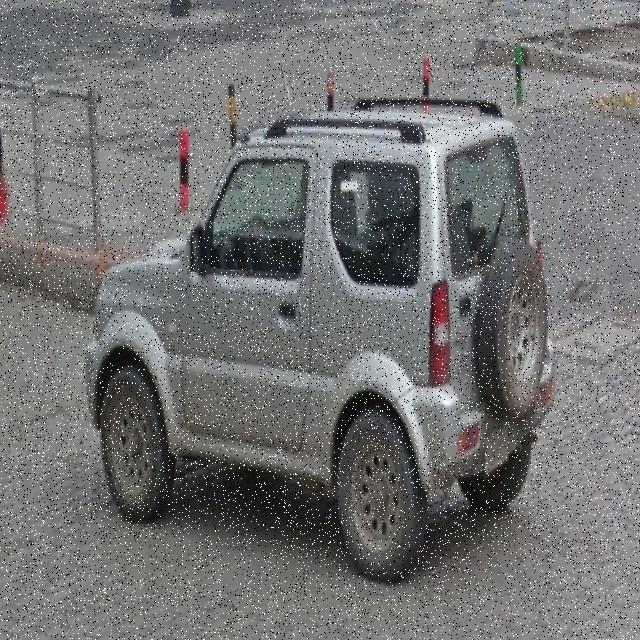cars: (78, 95, 560, 589)
